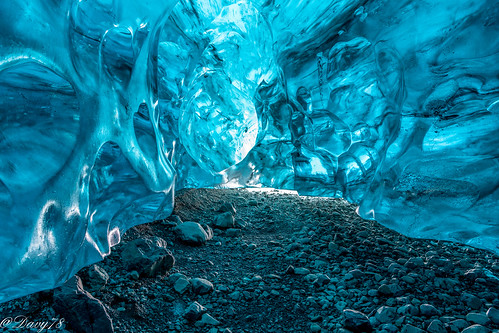tunnel: (89, 1, 371, 233)
